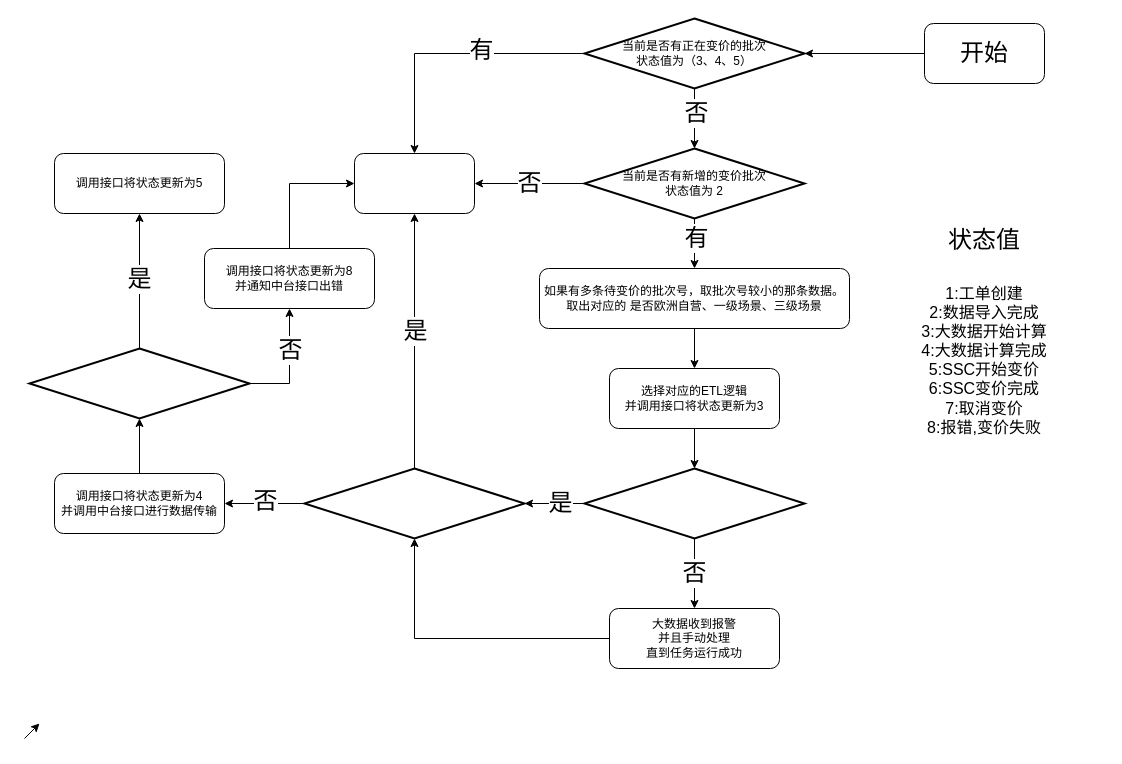
The diagram is 1122 pixels wide and 764 high, and some of its shapes have lost their labels. Here are the shapes that lost their labels. From the top down, the centre of each, then its label:
(414,183): 结束本次轮询
(139,383): 给中台传输数据执行成功
(414,503): 当前批次状态是否被运营取消 状态值为7
(694,503): 大数据ETL逻辑执行成功
